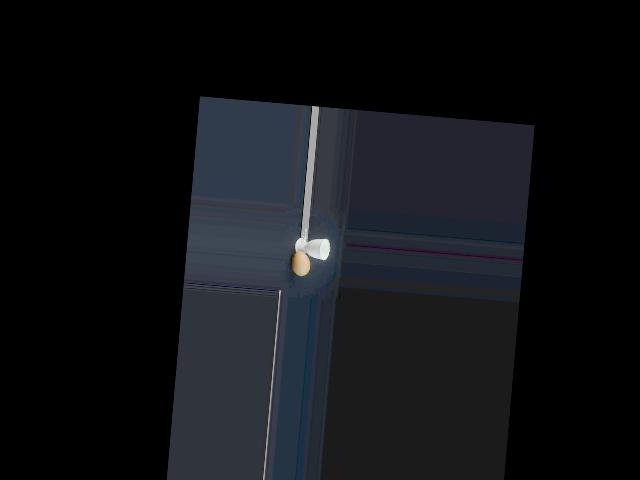egg: (291, 250, 311, 276)
